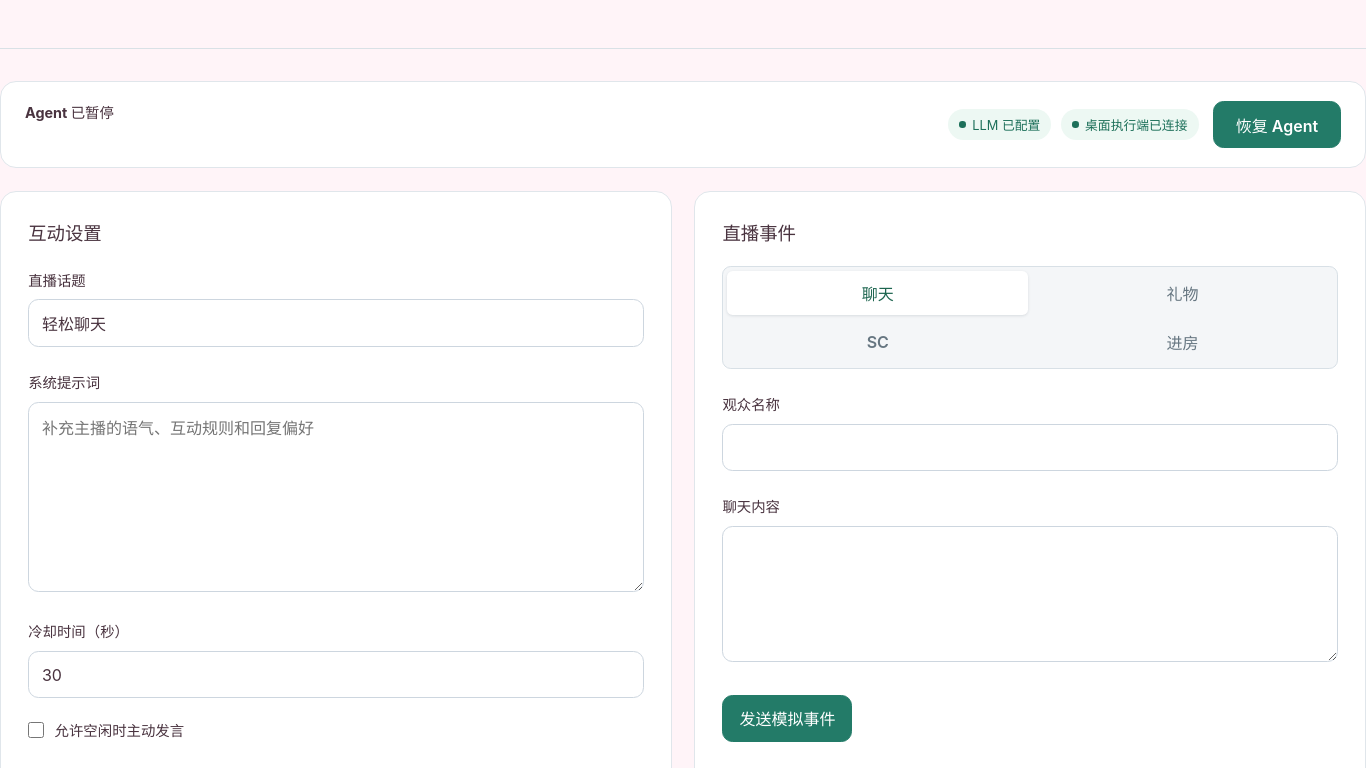
it: Agent 面板状态与控制 › 可恢复的 Agent 执行恢复并切换到等待状态
This screenshot has width=1366, height=768.
Expected: the heading "Agent 已暂停" is shown, [25,101,114,122]
Click the button "恢复 Agent": (1277, 125) [1213,101,1341,148]
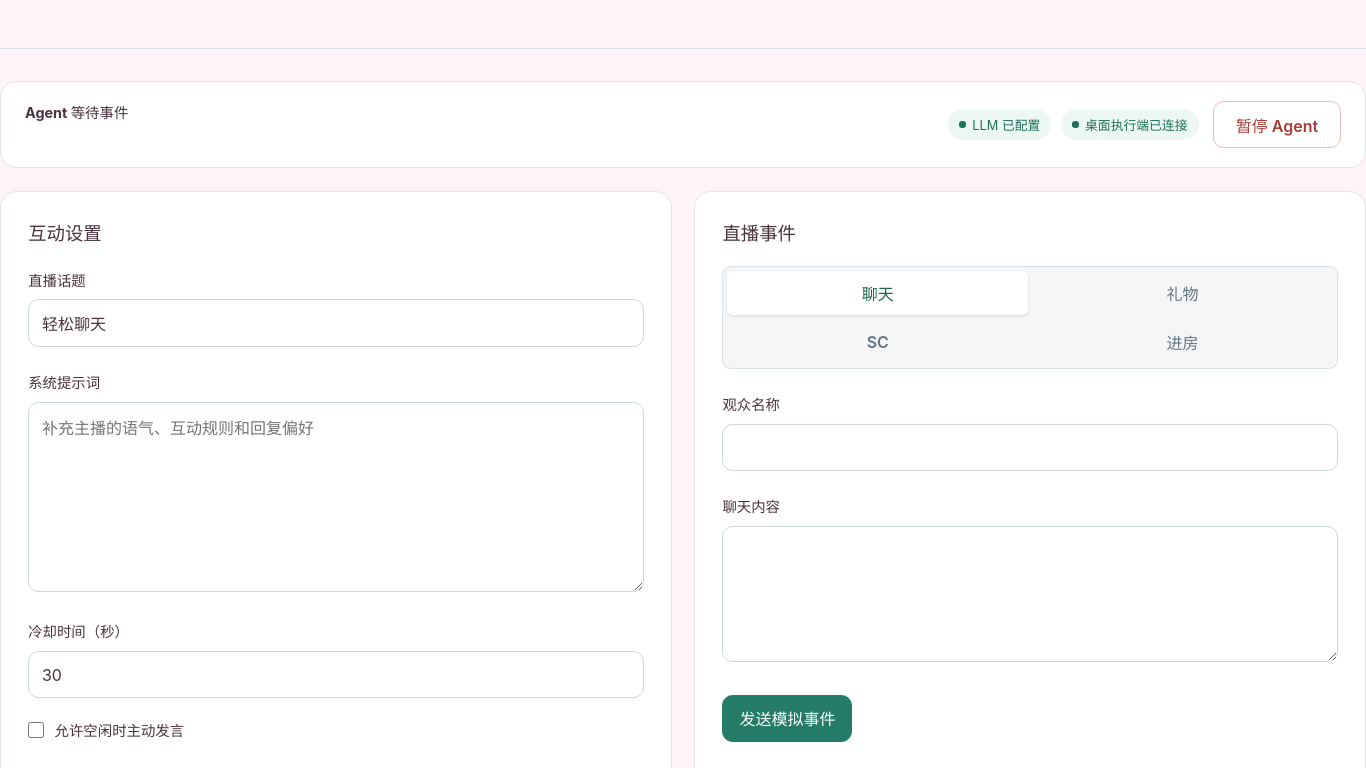
Expected: the heading "Agent 等待事件" is shown, [25,101,128,122]
